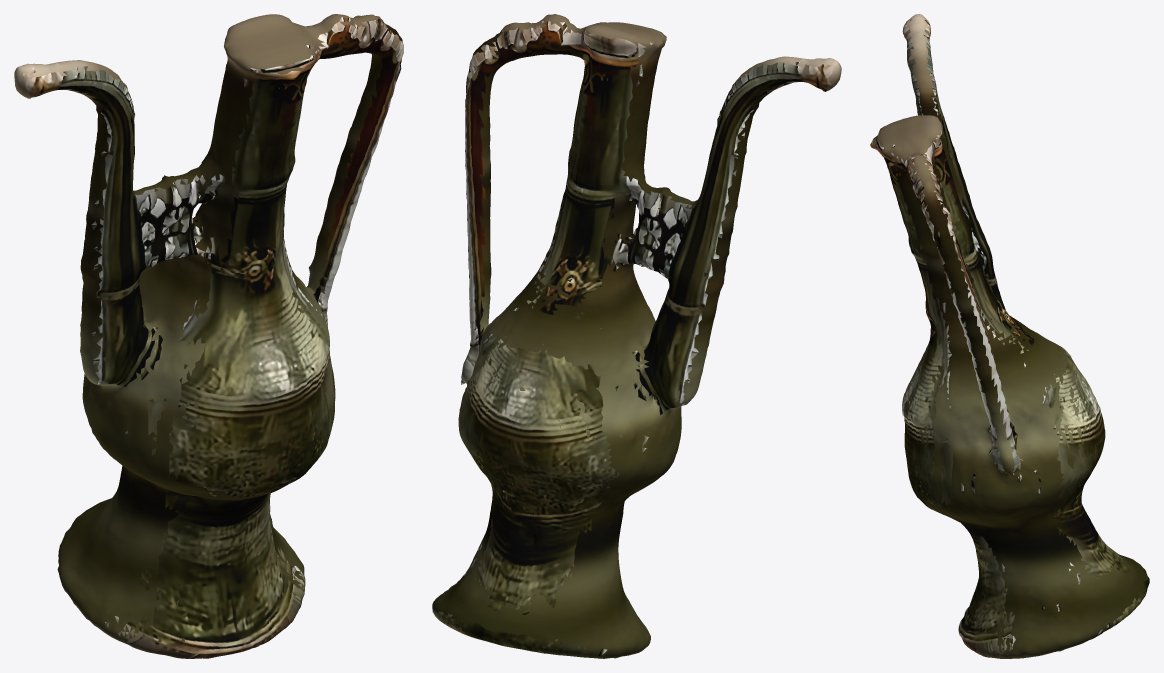
Rendered from kfl-2246.glb.
3 views of the same model, side by side, from view 1: azimuth 30°, elevation 25°; view 2: azimuth 150°, elevation 25°; view 3: azimuth 270°, elevation 25° (orthographic). The views are drawn at different scales.
Visible parts, largest first — view 1: kfl-2246; view 2: kfl-2246; view 3: kfl-2246.
Boxes of the visible parts, x1,y1,x2,y2 form: kfl-2246: [14, 14, 403, 658]; kfl-2246: [432, 14, 841, 658]; kfl-2246: [870, 14, 1149, 658].
Size of the model in its own units: 0.6211 by 0.9929 by 0.4749.
Materials: 4 (4 with a texture image).
